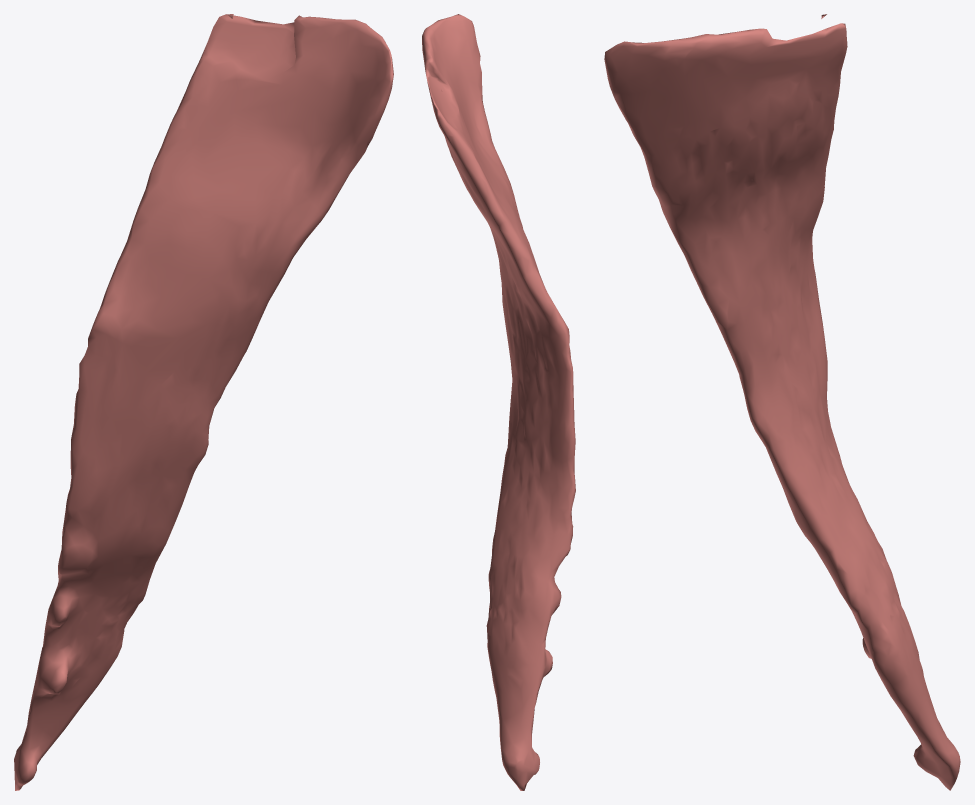
The model's file is fma22729_mm1307.glb.
3 views of the same model, side by side, from view 1: azimuth 30°, elevation 25°; view 2: azimuth 150°, elevation 25°; view 3: azimuth 270°, elevation 25° (orthographic). The views are drawn at different scales.
Parts seen in each view (by area): view 1: FMA22729_MM1307; view 2: FMA22729_MM1307; view 3: FMA22729_MM1307.
Part boxes in pixels (x1,y1,x2,y2): FMA22729_MM1307: (14, 14, 393, 790); FMA22729_MM1307: (422, 14, 575, 790); FMA22729_MM1307: (604, 14, 960, 790).
Bounding box in the file's own units: 0.0674 × 0.2087 × 0.0768.
